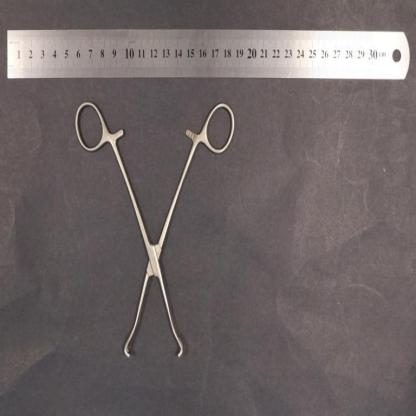Babcock Tissue Forceps: (73, 101, 236, 361)
